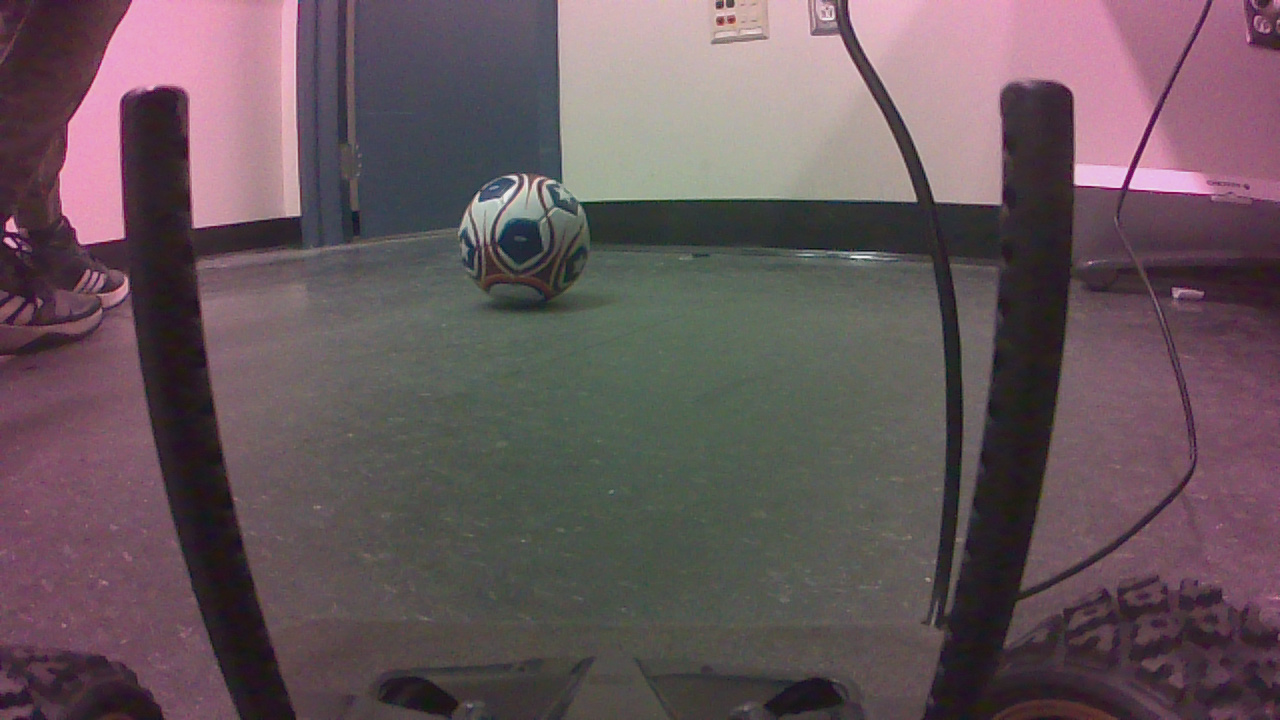ball: (462, 180, 599, 309)
